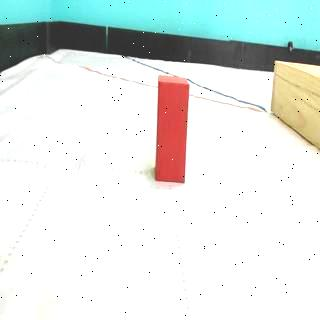redbox: (156, 74, 190, 185)
